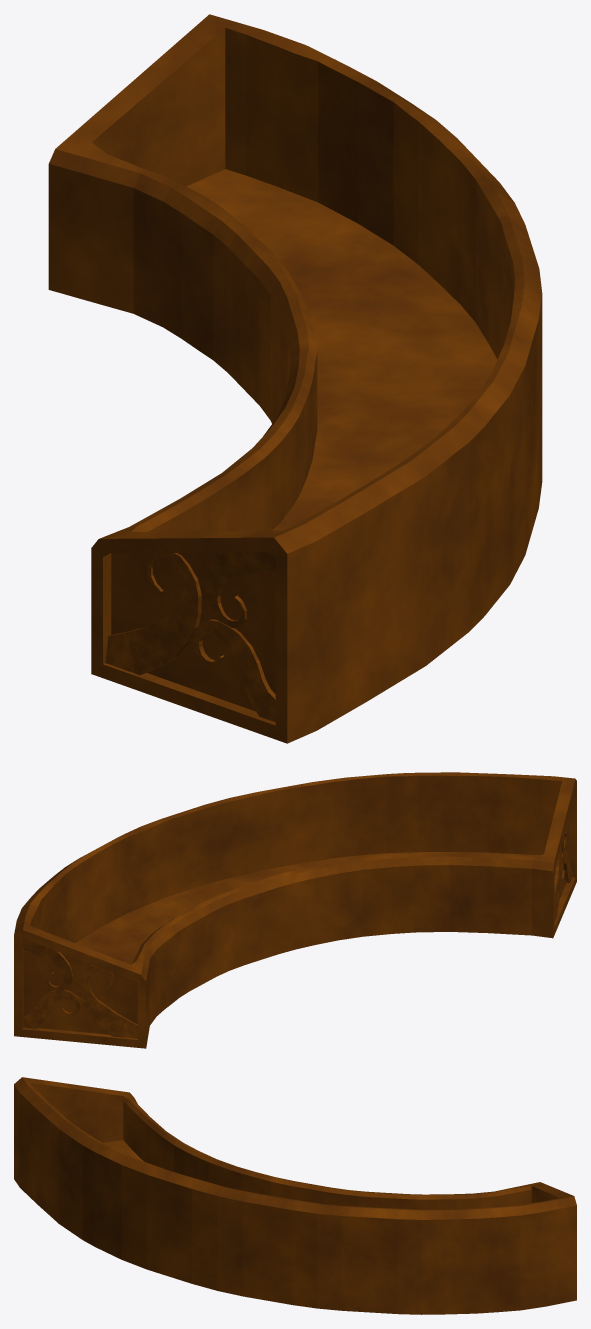
Rendered from Final_Typewriter on platform.glb.
The picture shows the model from 3 angles, top to bottom: view 1: azimuth 30°, elevation 25°; view 2: azimuth 150°, elevation 25°; view 3: azimuth 270°, elevation 25°; orthographic projection. The views are drawn at different scales.
Visible parts, largest first — view 1: Cube.015, Cube.002; view 2: Cube.015, Cube.001, Cube.002; view 3: Cube.015.
Part boxes in pixels (x1=…): Cube.015: x1=48, y1=14, x2=542, y2=743; Cube.002: x1=105, y1=552, x2=275, y2=721; Cube.015: x1=14, y1=772, x2=576, y2=1048; Cube.001: x1=22, y1=939, x2=137, y2=1038; Cube.002: x1=554, y1=794, x2=573, y2=921; Cube.015: x1=14, y1=1077, x2=576, y2=1314.
Bounding box in the file's own units: 41.96 × 12.79 × 64.74.
Materials: 3 (3 with a texture image).
